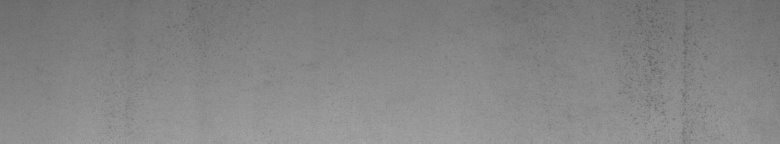ib: (628, 9, 696, 115)
